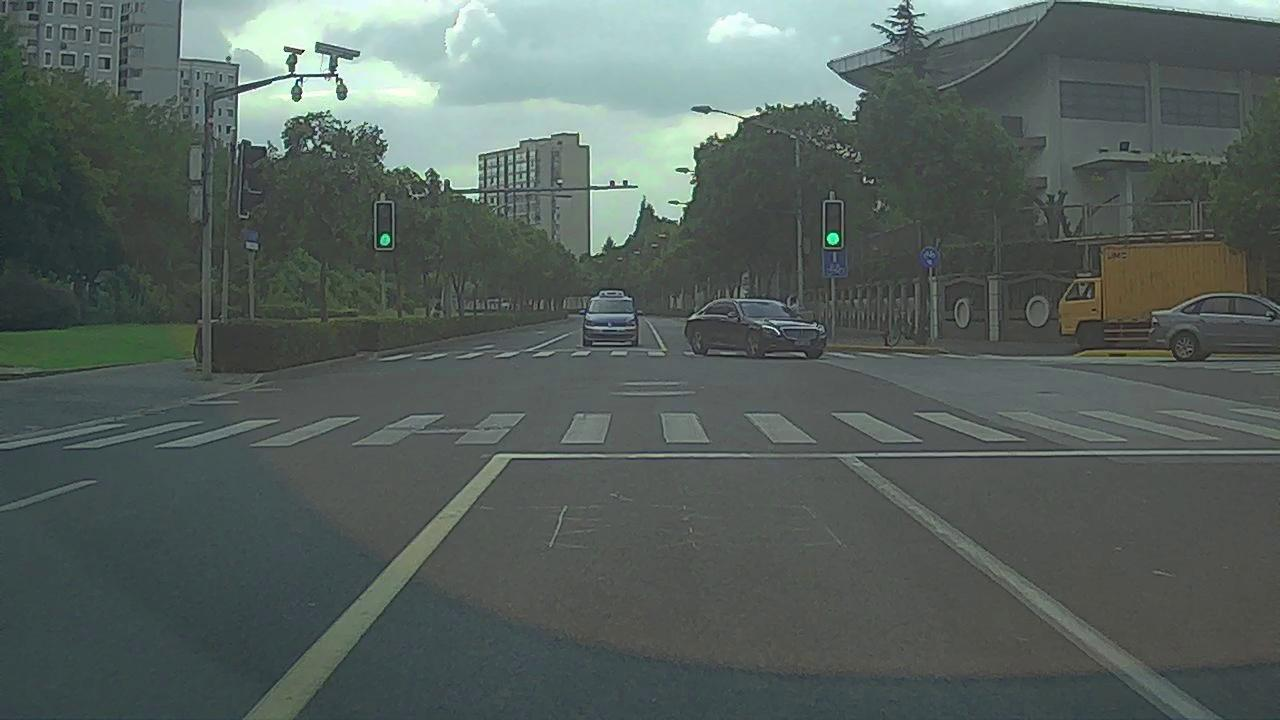traffic_light: (822, 201, 843, 248), (376, 201, 395, 251)
